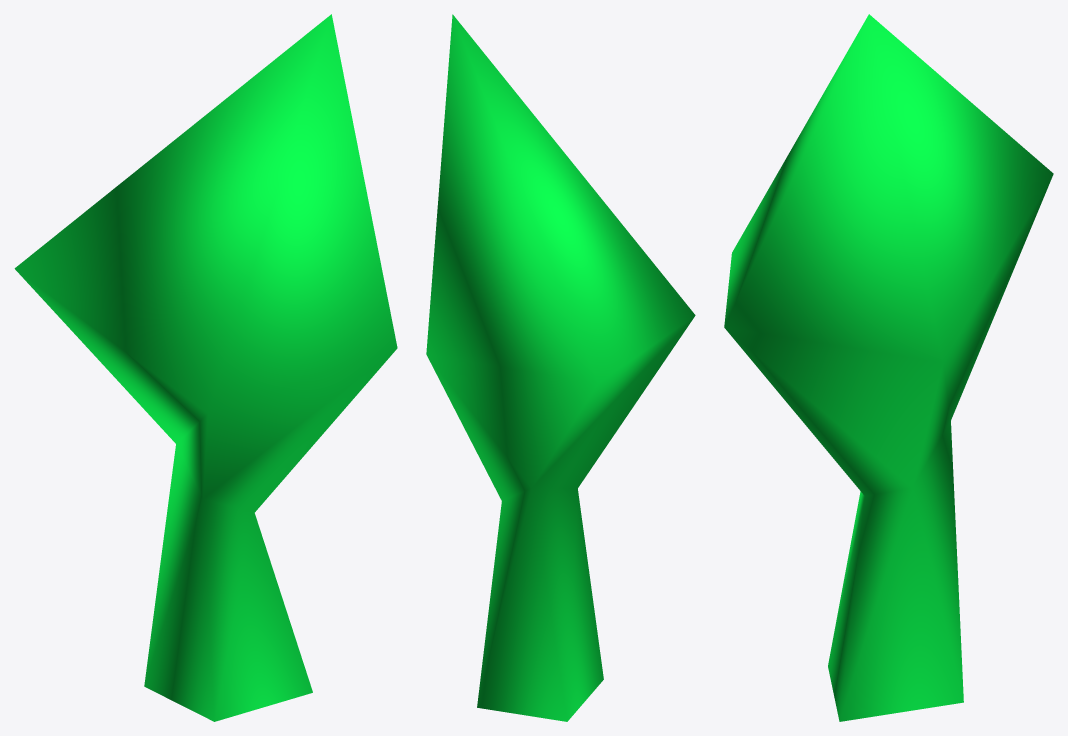
The model's file is Plant02_b_col.FBX.
3 views of the same model, side by side, from view 1: azimuth 30°, elevation 25°; view 2: azimuth 150°, elevation 25°; view 3: azimuth 270°, elevation 25° (orthographic). The views are drawn at different scales.
Parts seen in each view (by area): view 1: Plant02_b_col; view 2: Plant02_b_col; view 3: Plant02_b_col.
Boxes of the visible parts, left/top/right/bottom form: Plant02_b_col: left=14, top=14, right=397, bottom=721; Plant02_b_col: left=426, top=14, right=695, bottom=721; Plant02_b_col: left=724, top=14, right=1053, bottom=721.
Size of the model in its own units: 166 by 451 by 186.
